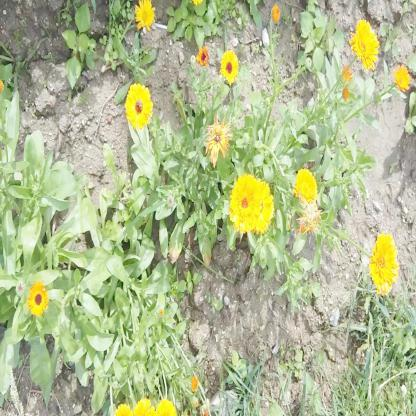marigold: (229, 172, 262, 232), (370, 233, 400, 294), (247, 178, 275, 232), (206, 113, 232, 162), (350, 21, 378, 65), (124, 84, 151, 126), (27, 279, 49, 318), (294, 166, 317, 202), (134, 0, 156, 32), (220, 50, 239, 82), (393, 64, 409, 89)
